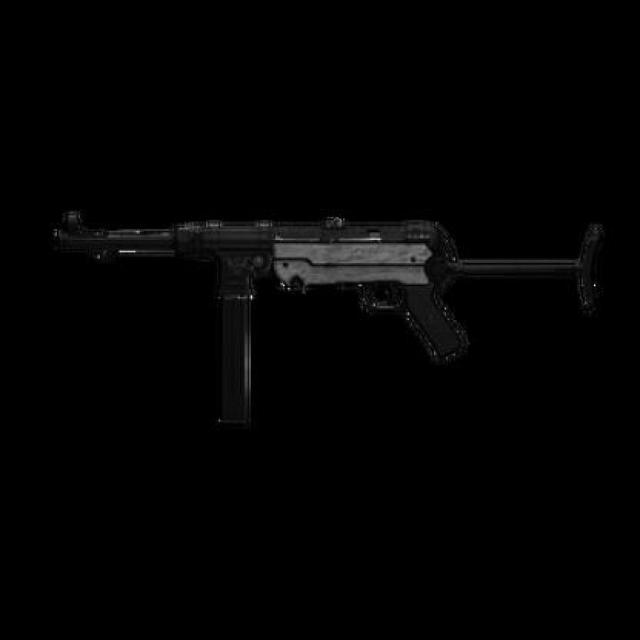weapon: (51, 212, 615, 436)
